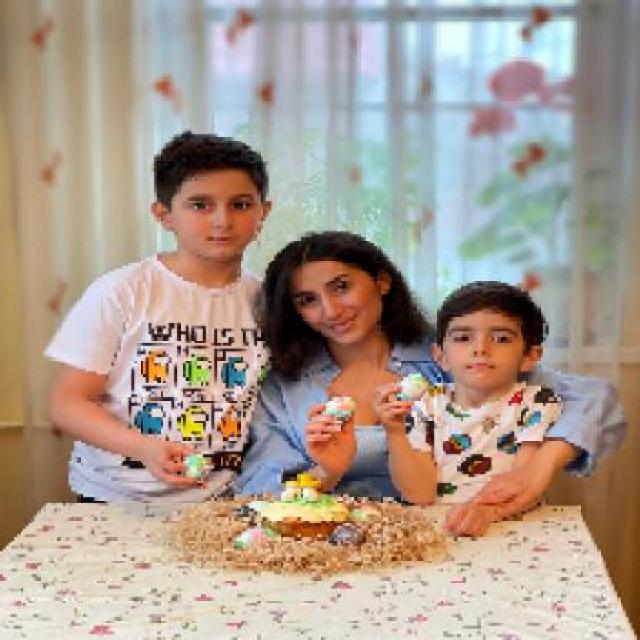child: (373, 280, 564, 537)
